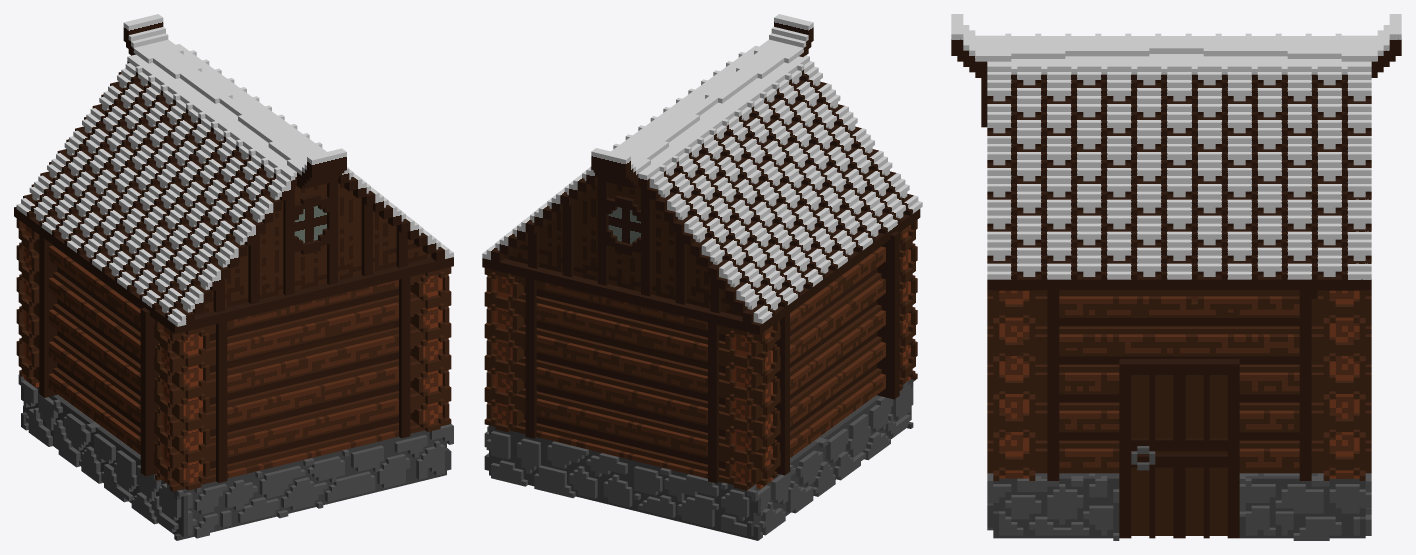
File: house.gltf
3 views of the same model, side by side, from view 1: azimuth 30°, elevation 25°; view 2: azimuth 150°, elevation 25°; view 3: azimuth 270°, elevation 25° (orthographic). The views are drawn at different scales.
Parts seen in each view (by area): view 1: Content (15)-Mesh; view 2: Content (15)-Mesh; view 3: Content (15)-Mesh.
Part boxes in pixels (x1=…): Content (15)-Mesh: x1=14, y1=14, x2=453, y2=540; Content (15)-Mesh: x1=482, y1=14, x2=922, y2=540; Content (15)-Mesh: x1=951, y1=14, x2=1401, y2=540.
Size of the model in its own units: 65 by 80 by 75.
Materials: 1 (1 with a texture image).
